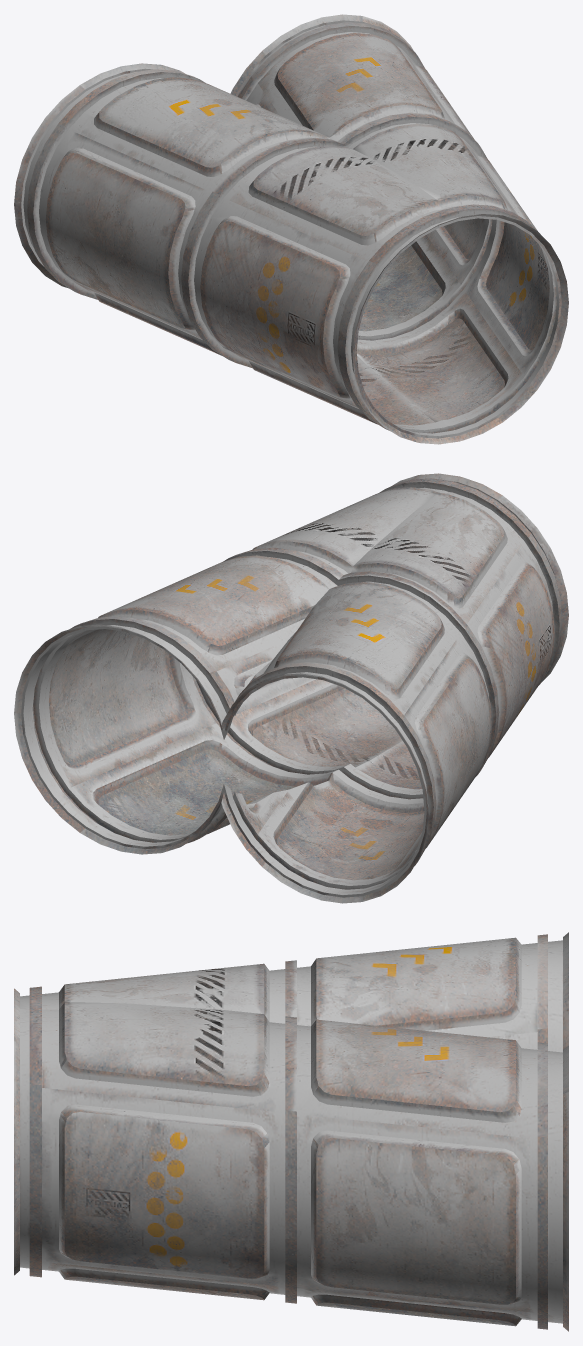
File: Corridor_Fork.obj
3 views of the same model, one above another, from view 1: azimuth 30°, elevation 25°; view 2: azimuth 150°, elevation 25°; view 3: azimuth 270°, elevation 25° (orthographic). The views are drawn at different scales.
Visible parts, largest first — view 1: Cylinder004; view 2: Cylinder004; view 3: Cylinder004.
Part boxes in pixels (box(x1,y1,x2,y2)): Cylinder004: box(14, 14, 568, 444); Cylinder004: box(14, 473, 568, 903); Cylinder004: box(14, 932, 568, 1331).
Size of the model in its own units: 20.45 by 10.65 by 20.45.
Materials: 1 (1 with a texture image).
